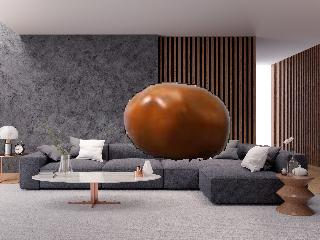potato: (123, 82, 230, 162)
